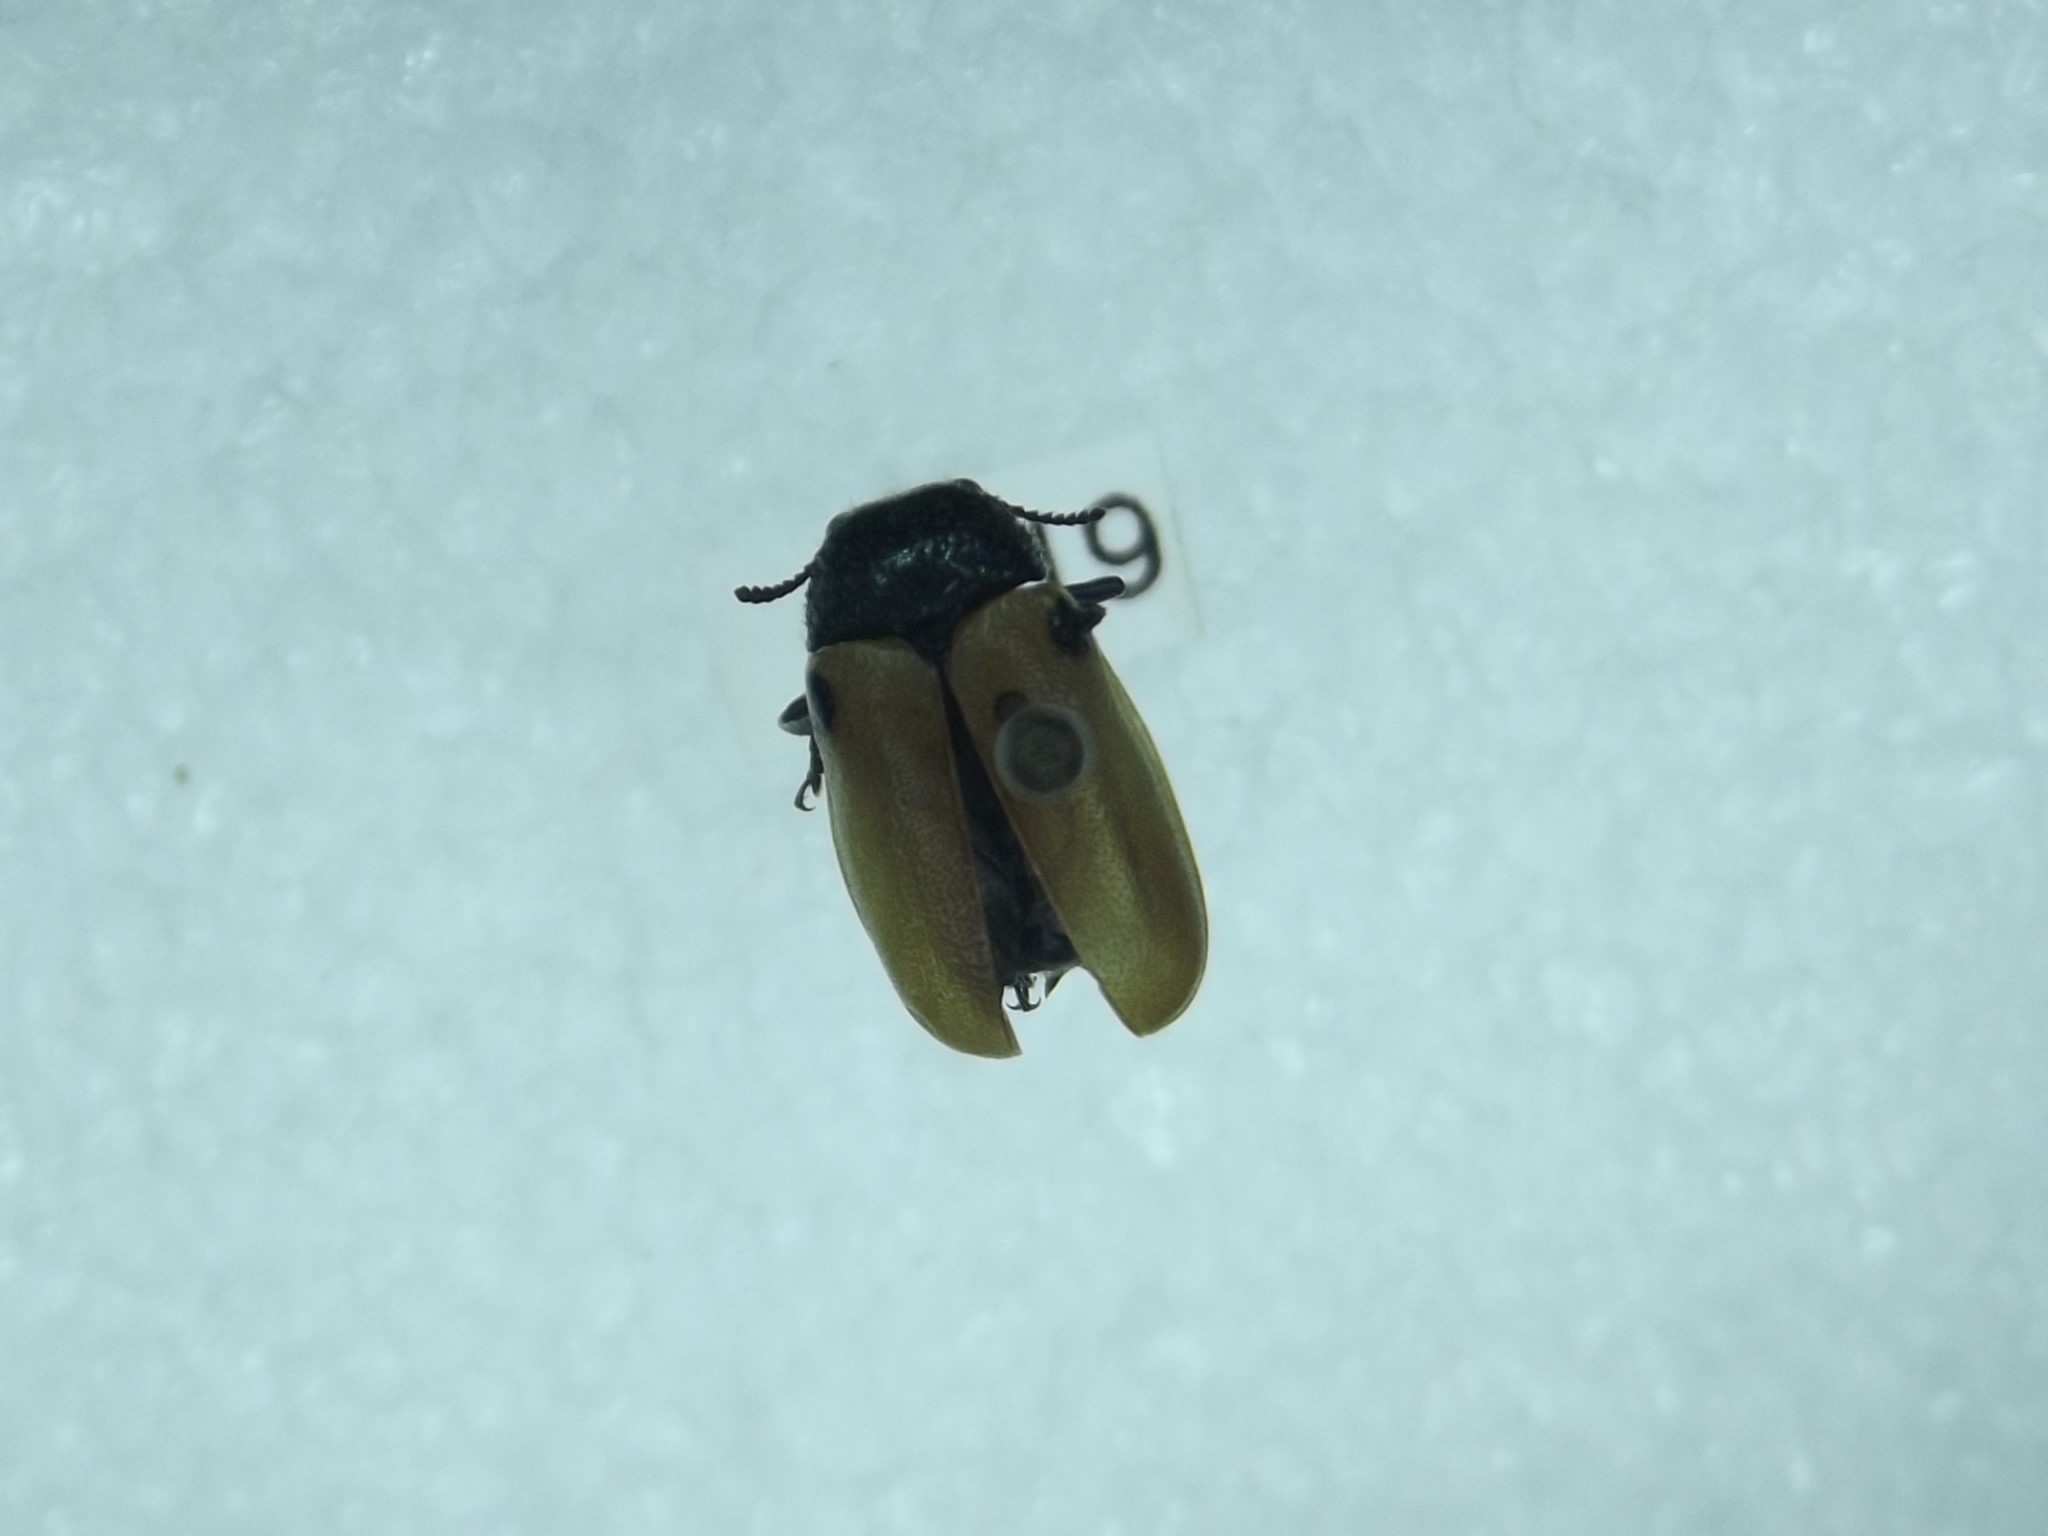Labidostomis_propinqua: (731, 465, 1209, 1065)
